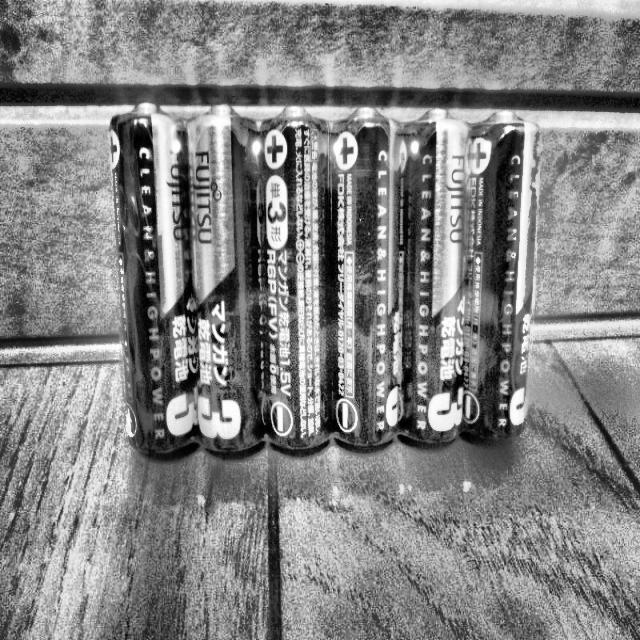drycell: (110, 103, 198, 453), (187, 105, 265, 464), (394, 109, 476, 448), (259, 107, 334, 459), (332, 104, 404, 455), (465, 112, 540, 448)
